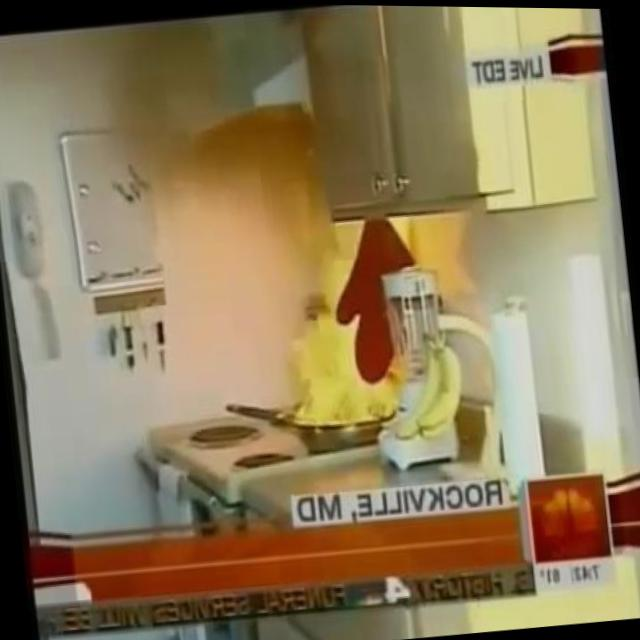fire: (274, 215, 418, 433)
